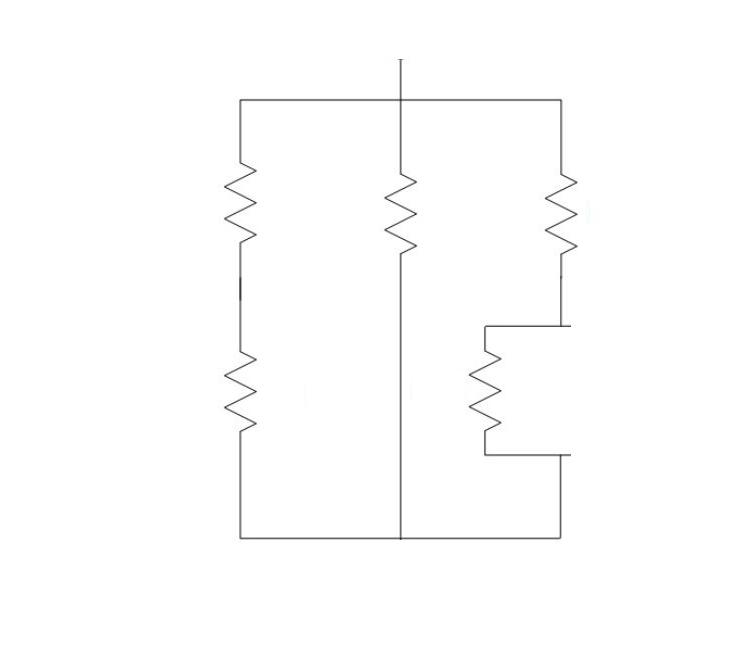resistor: (200, 132, 277, 283), (517, 139, 603, 274), (205, 322, 283, 466), (365, 147, 441, 274), (457, 330, 524, 459)
